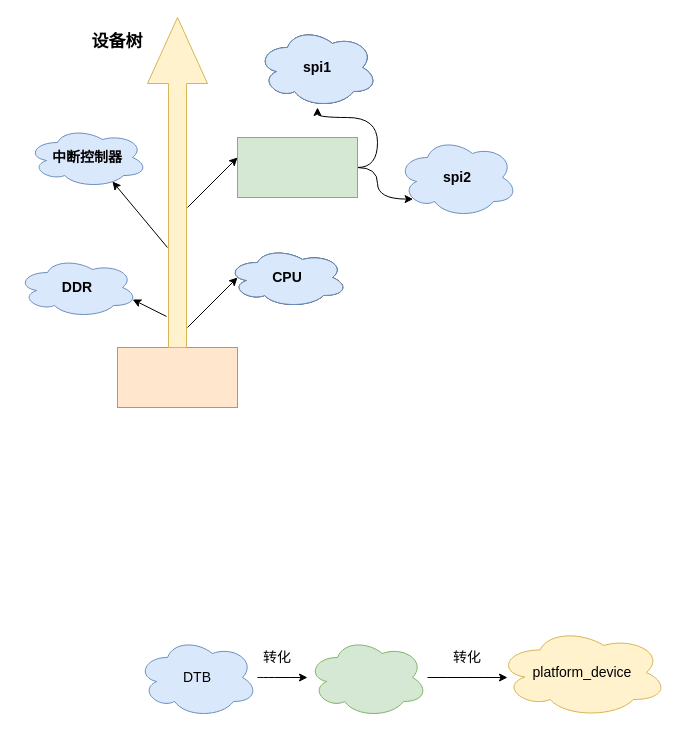
Some shapes in this 685 by 735 pixel diagram are drawn without their labels. The shapes that lost their labels are listed below. From the top down, each one's centre as x and y in pixels, then its label:
(x=297, y=167): spi控制器
(x=177, y=377): 根节点
(x=367, y=677): device_node
